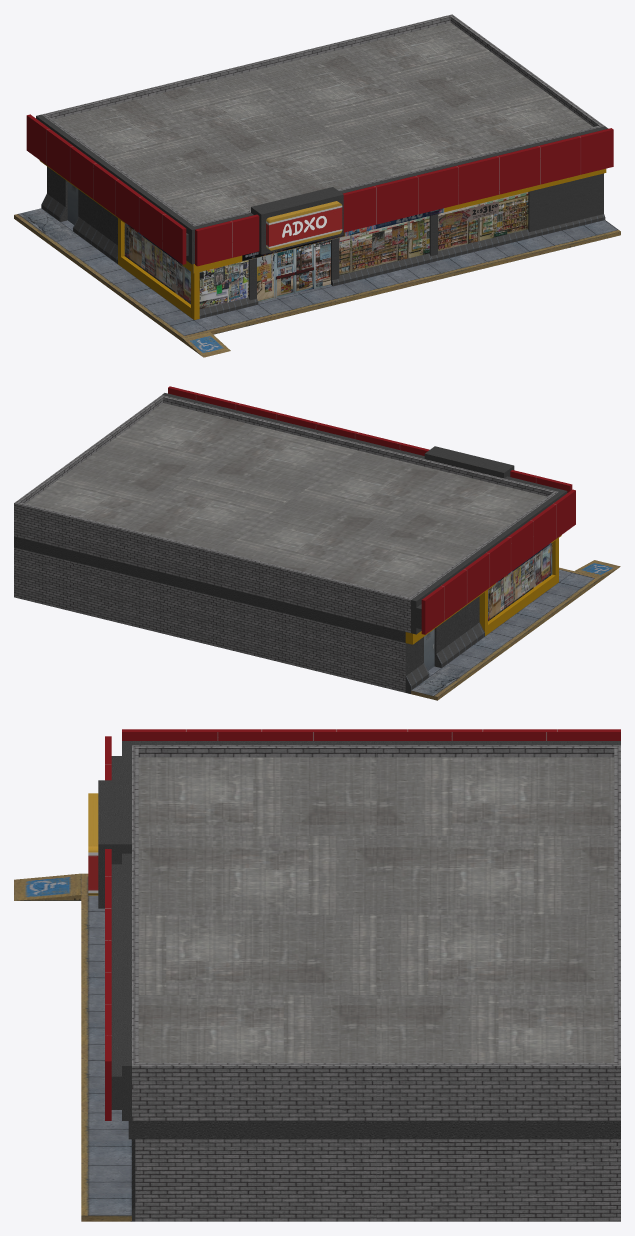
File: Tienda_Adxo.glb
The picture shows the model from 3 angles, top to bottom: view 1: azimuth 30°, elevation 25°; view 2: azimuth 150°, elevation 25°; view 3: azimuth 270°, elevation 25°; orthographic projection. The views are drawn at different scales.
Parts seen in each view (by area): view 1: Oxxo_01 - Default_0; view 2: Oxxo_01 - Default_0; view 3: Oxxo_01 - Default_0.
Part boxes in pixels (x1,y1,x2,y2): Oxxo_01 - Default_0: [14, 14, 620, 357]; Oxxo_01 - Default_0: [14, 386, 620, 700]; Oxxo_01 - Default_0: [14, 729, 620, 1221].
Bounding box in the file's own units: 24 × 5.4 × 18.
Materials: 1 (1 with a texture image).
